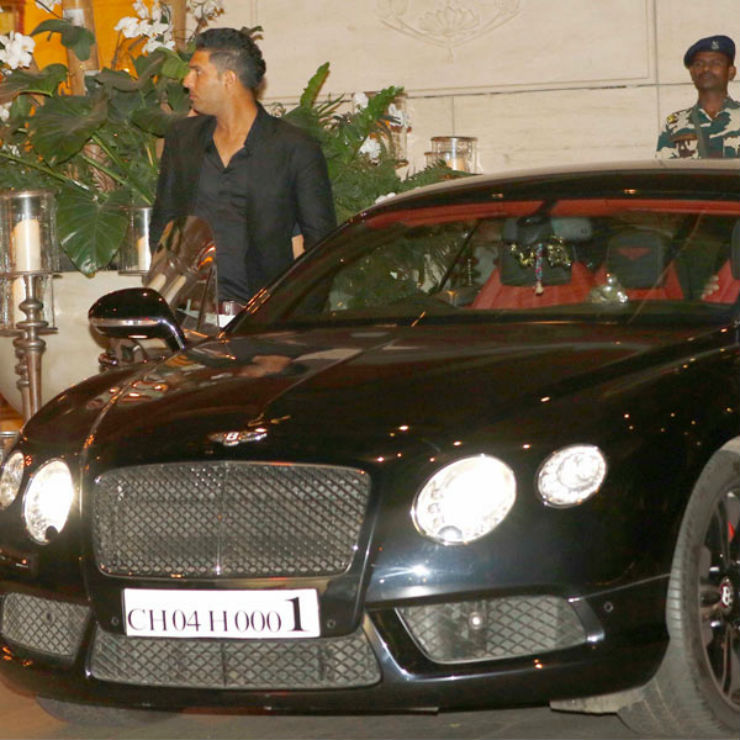number_plate: (117, 585, 325, 646)
